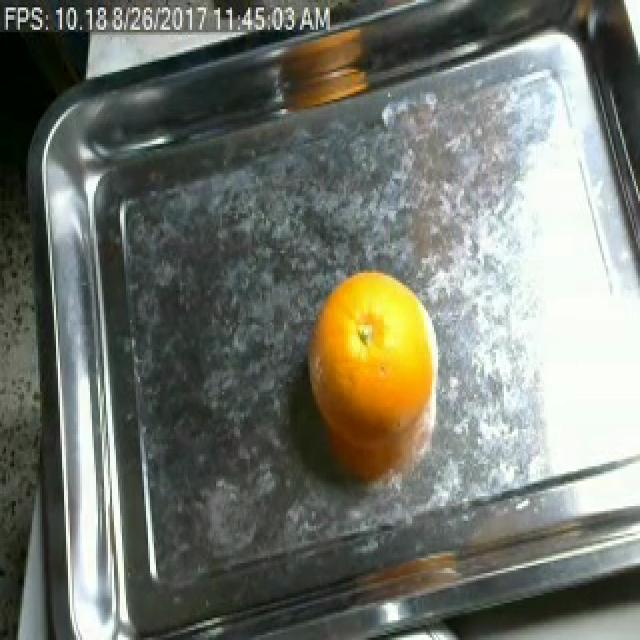Fruit: (294, 258, 454, 506)
